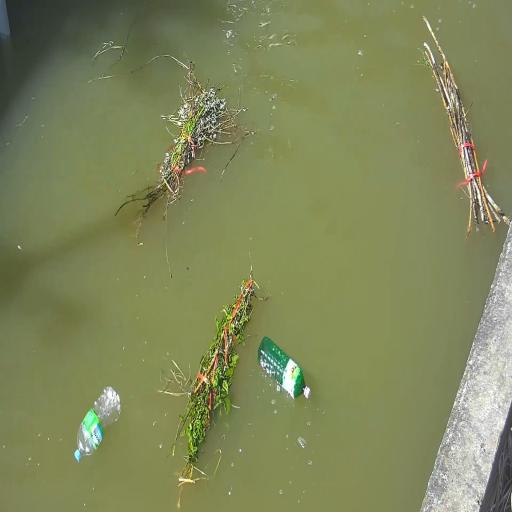plastic: (63, 383, 128, 461), (252, 328, 313, 406)
twig: (164, 270, 260, 458), (416, 20, 498, 238), (146, 73, 230, 234)
